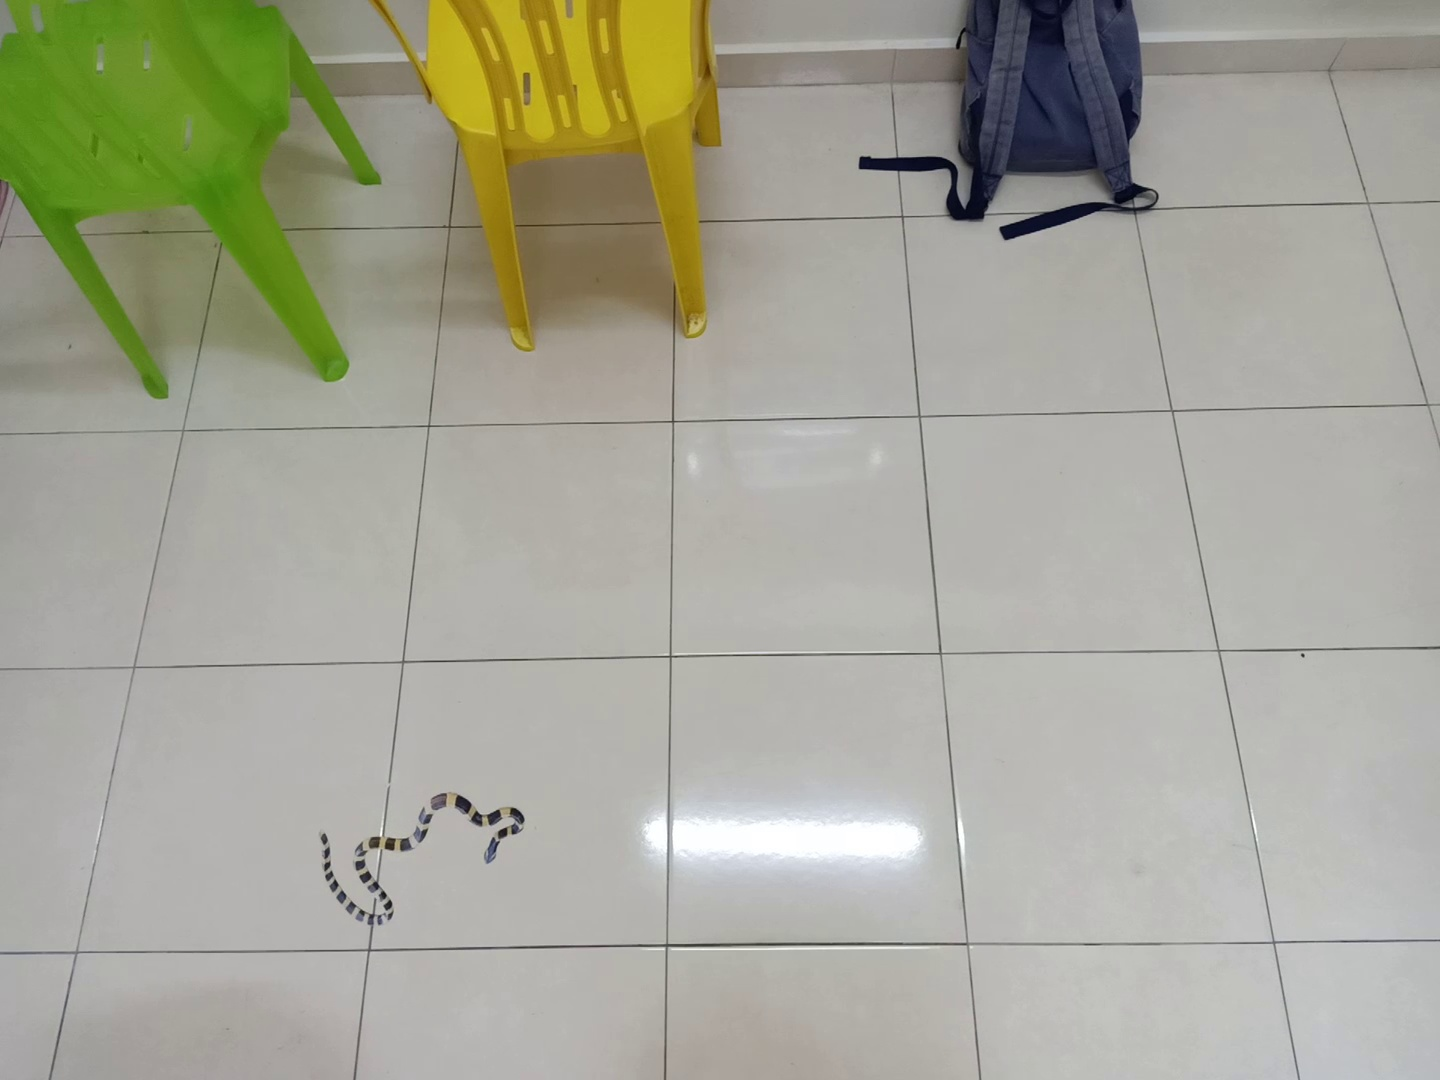snake: (316, 782, 542, 927)
